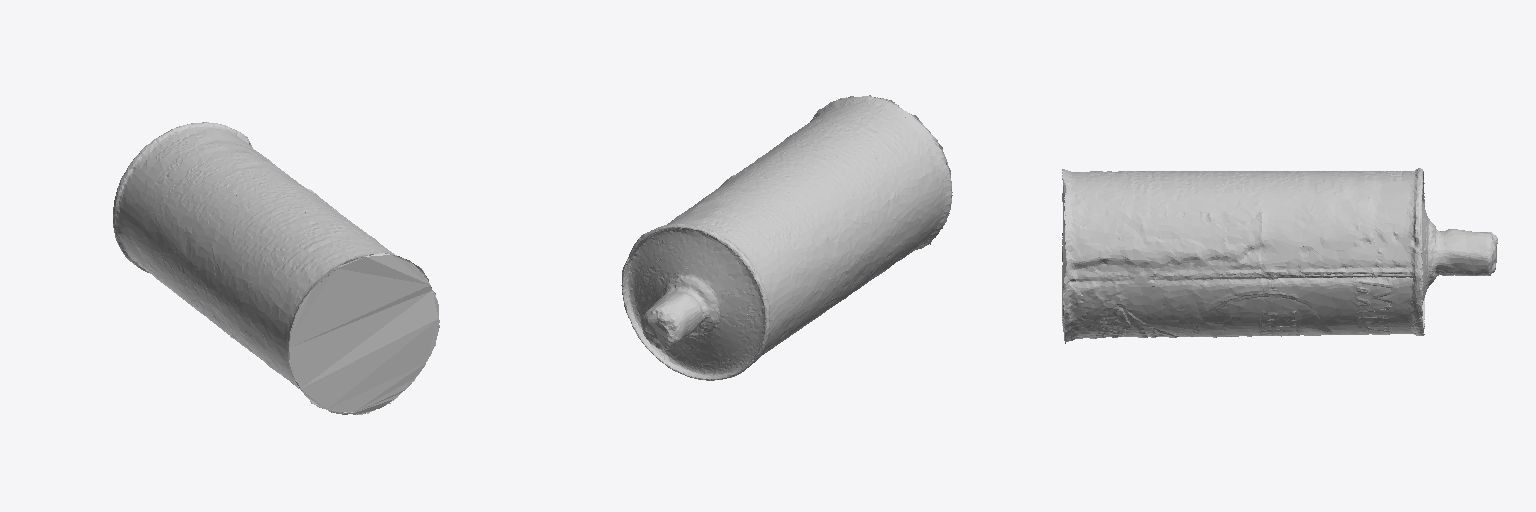
File: 2010-46-1-29(lowerPoly-SML).obj
3 views of the same model, side by side, from view 1: azimuth 30°, elevation 25°; view 2: azimuth 150°, elevation 25°; view 3: azimuth 270°, elevation 25° (orthographic).
Parts seen in each view (by area): view 1: 2010-46-1-2; view 2: 2010-46-1-2; view 3: 2010-46-1-2.
Boxes of the visible parts, x1,y1,x2,y2 form: 2010-46-1-2: [113, 122, 439, 414]; 2010-46-1-2: [621, 95, 952, 380]; 2010-46-1-2: [1062, 168, 1497, 343].
Bounding box in the file's own units: 0.1943 × 0.195 × 0.4808.